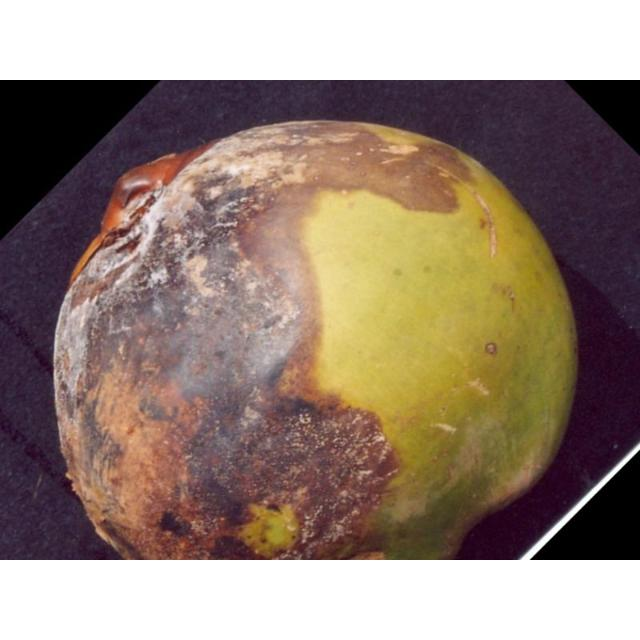damaged: (54, 122, 575, 559)
